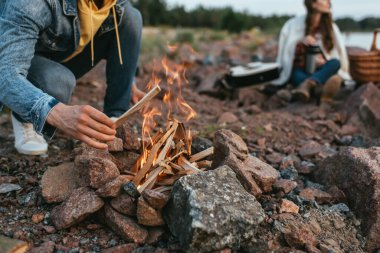fire: (139, 55, 204, 186)
